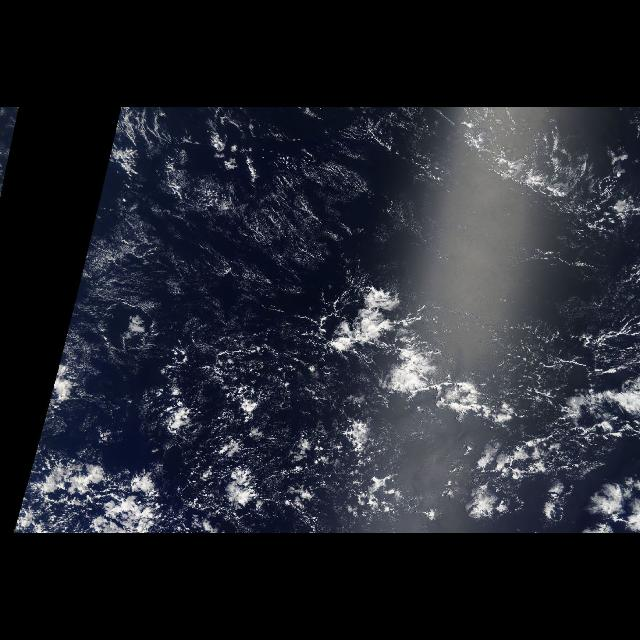Gravel: (26, 319, 626, 529)
Sugar: (109, 120, 463, 354)
